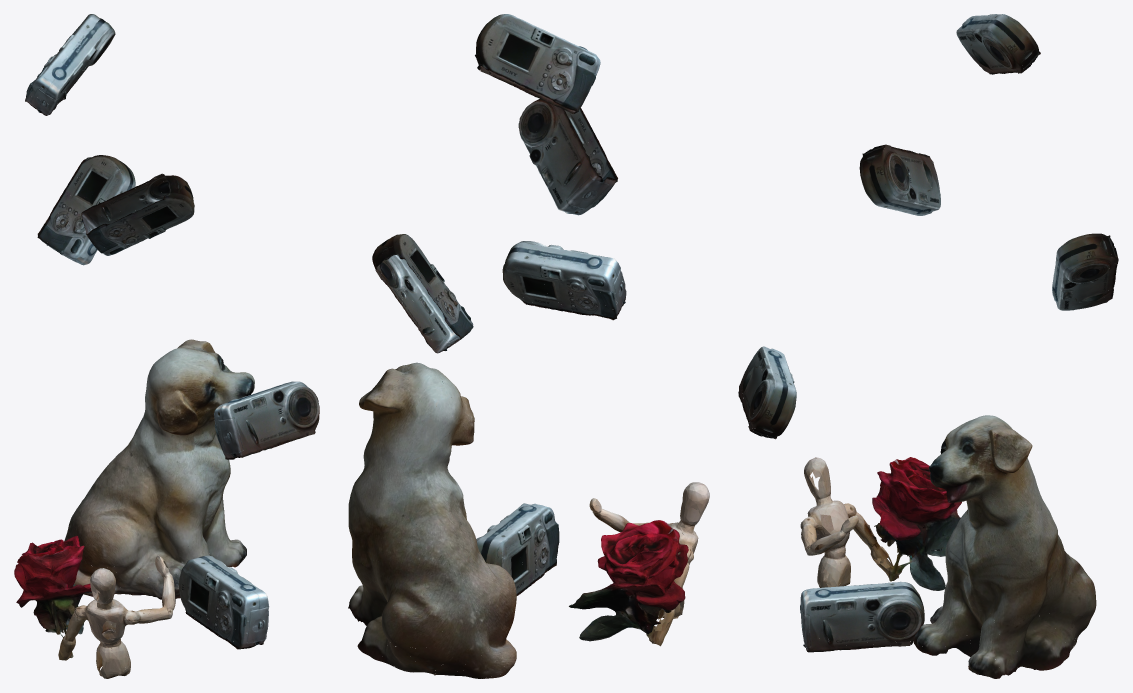
Rendered from bodegon.glb.
3 renders of one model, left to right at view 1: azimuth 30°, elevation 25°; view 2: azimuth 150°, elevation 25°; view 3: azimuth 270°, elevation 25°, orthographic. The views are drawn at different scales.
Parts seen in each view (by area): view 1: dog, rosa, camara, camara.003, camara.002, camara.001, camara.004; view 2: dog, rosa, camara.004, camara.003, camara.002, camara.001, camara; view 3: dog, rosa, camara, camara.002, camara.001, camara.003, camara.004.
Part boxes in pixels (<box>): dog: <box>64,339,254,599</box>; rosa: <box>14,535,175,678</box>; camara: <box>178,555,269,649</box>; camara.003: <box>214,381,319,459</box>; camara.002: <box>81,173,194,255</box>; camara.001: <box>37,155,135,265</box>; camara.004: <box>25,14,115,115</box>; dog: <box>348,362,516,678</box>; rosa: <box>569,482,709,646</box>; camara.004: <box>475,14,600,113</box>; camara.003: <box>502,241,626,320</box>; camara.002: <box>518,99,617,215</box>; camara.001: <box>372,234,473,353</box>; camara: <box>476,503,559,595</box>; dog: <box>913,415,1096,678</box>; rosa: <box>800,457,961,590</box>; camara: <box>800,581,924,652</box>; camara.002: <box>859,144,940,215</box>; camara.001: <box>1052,233,1118,310</box>; camara.003: <box>738,346,796,439</box>; camara.004: <box>956,14,1040,74</box>.
Bounding box in the file's own units: 0.896 × 1.91 × 1.08.
7 materials, 7 textured.
